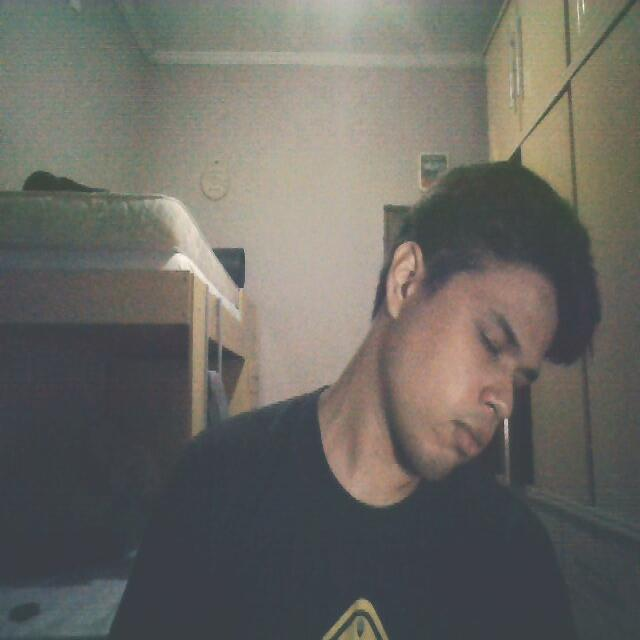sonolento: (312, 225, 590, 535)
